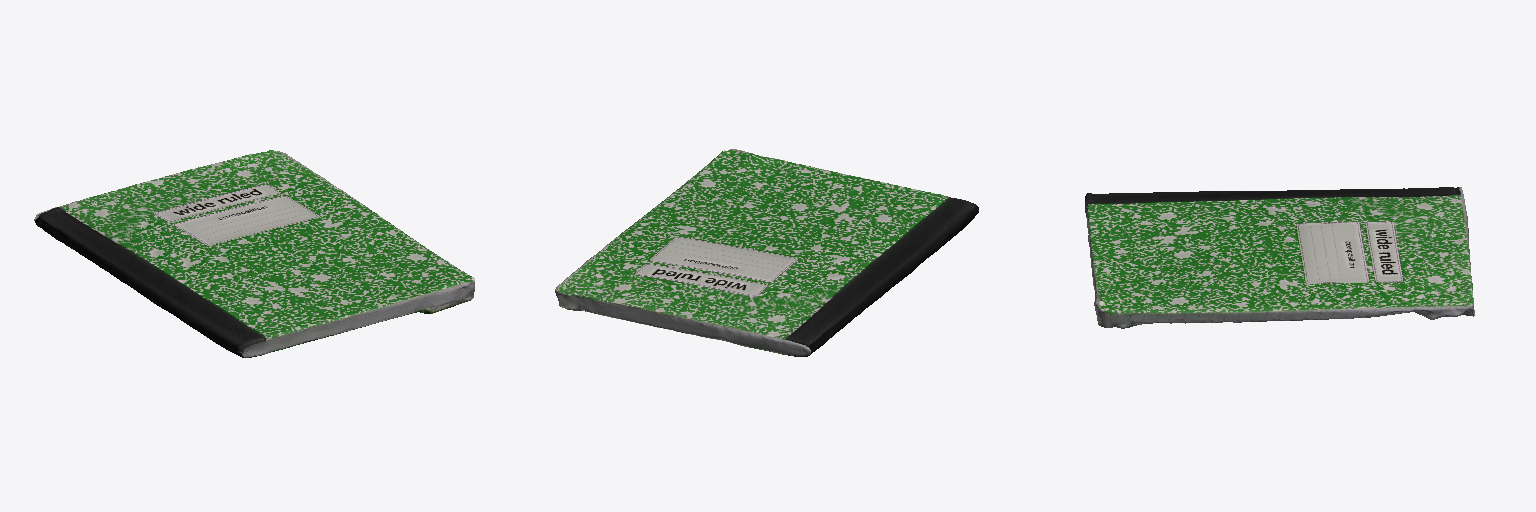
3 renders of one model, left to right at view 1: azimuth 30°, elevation 25°; view 2: azimuth 150°, elevation 25°; view 3: azimuth 270°, elevation 25°, orthographic.
Visible parts, largest first — view 1: group_0; view 2: group_0; view 3: group_0.
Part boxes in pixels (left/top/right/bottom): group_0: left=34, top=150, right=474, bottom=357; group_0: left=555, top=149, right=978, bottom=356; group_0: left=1085, top=187, right=1474, bottom=328.
Size of the model in its own units: 138 by 13.23 by 177.
1 materials, 1 textured.